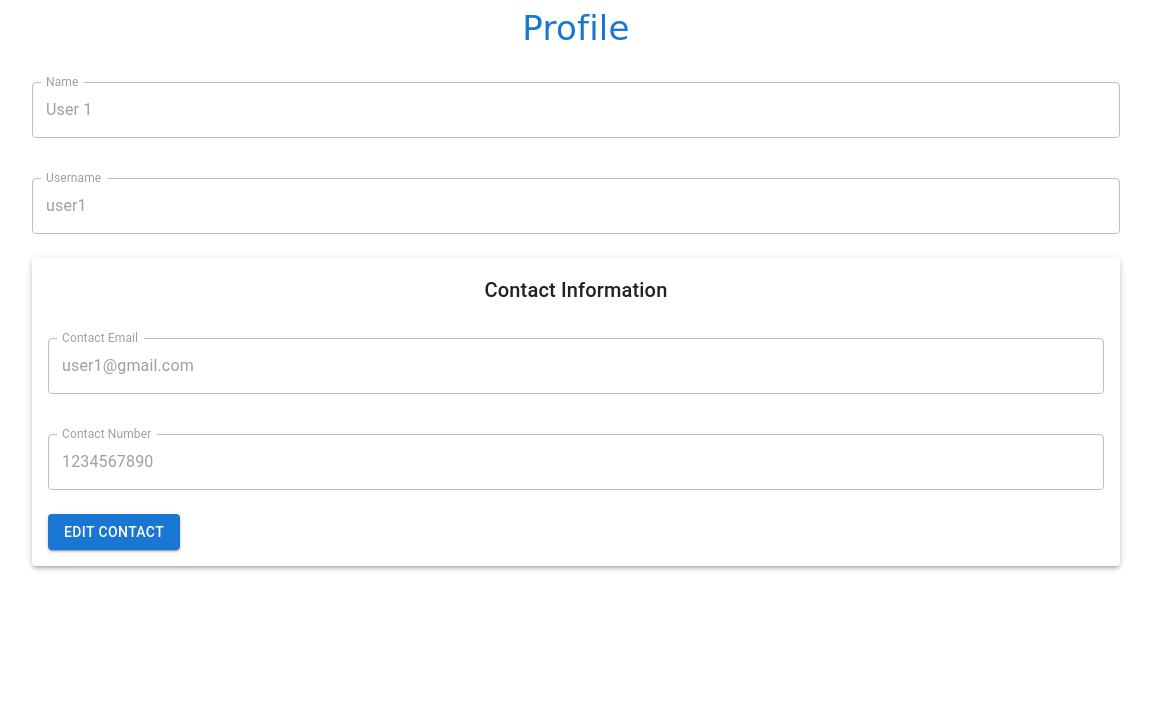
Test: Profile Component › shows error message when email and password is invalid
Expected: the field labelled "Contact Email" is disabled, [48,338,1104,394]
Expected: the field labelled "Contact Number" is disabled, [48,434,1104,490]
Click the button with test id "edit-button" at (114, 533), box [48,514,180,551]
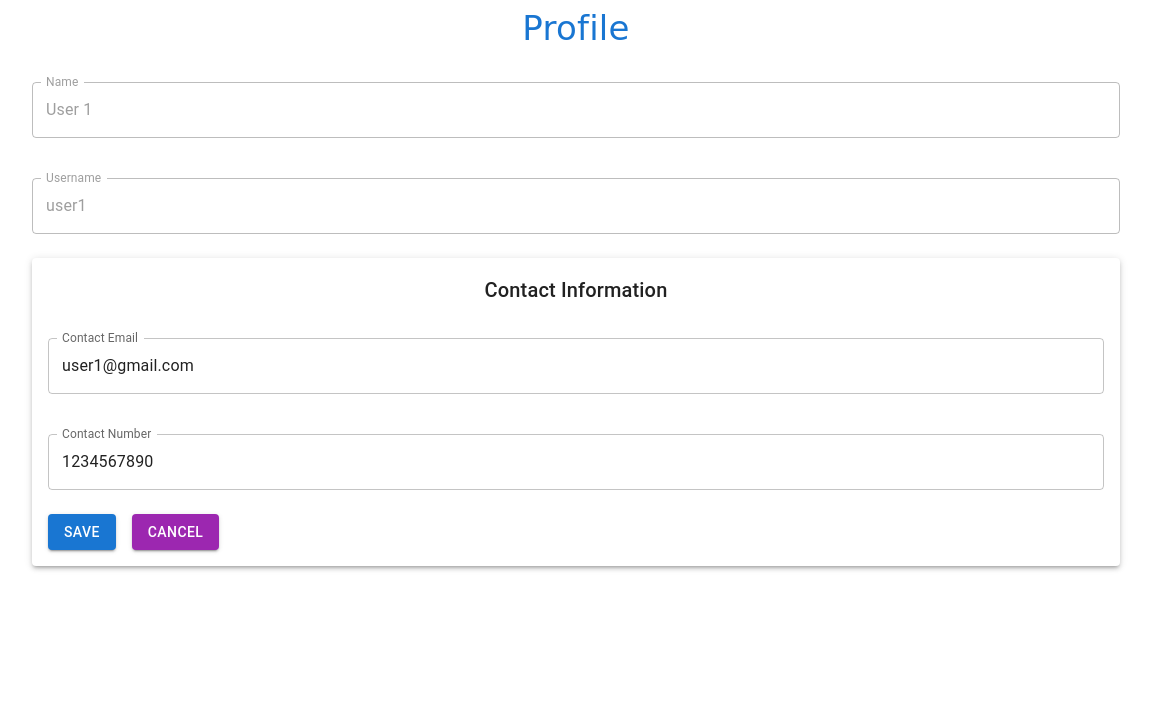
Press Selectall Backspace in the element with test id "contact-email", box [48,338,1104,394]
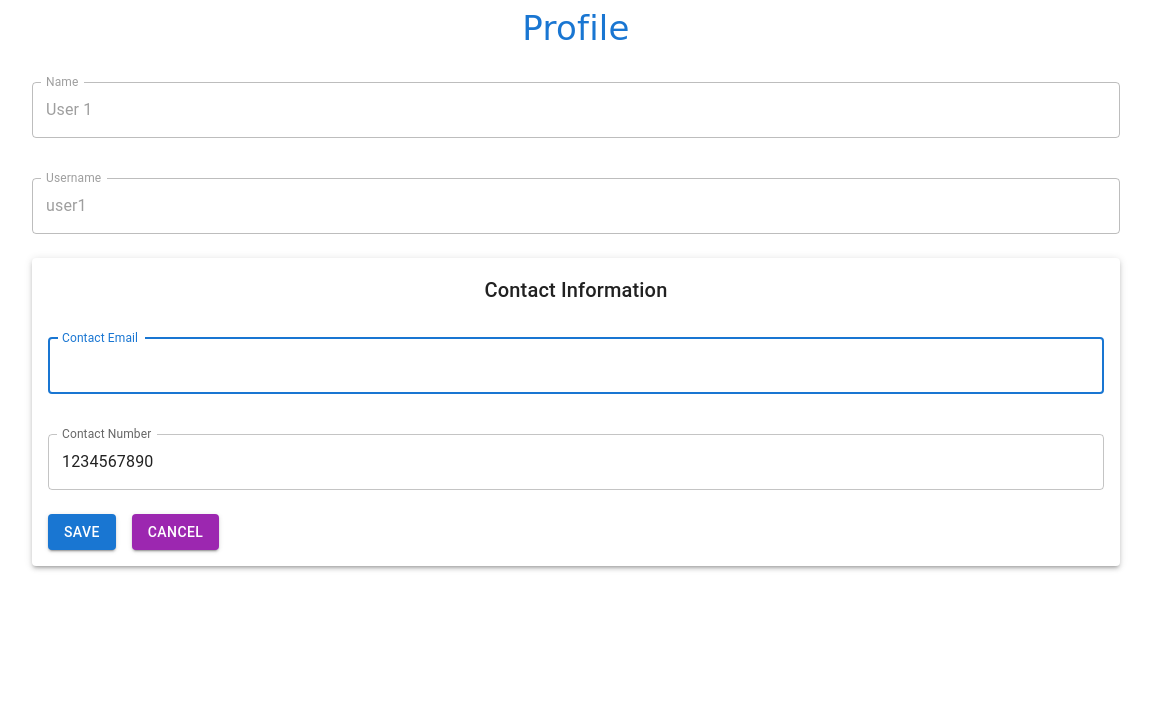
Press Selectall Backspace in the element with test id "contact-number", box [48,434,1104,490]
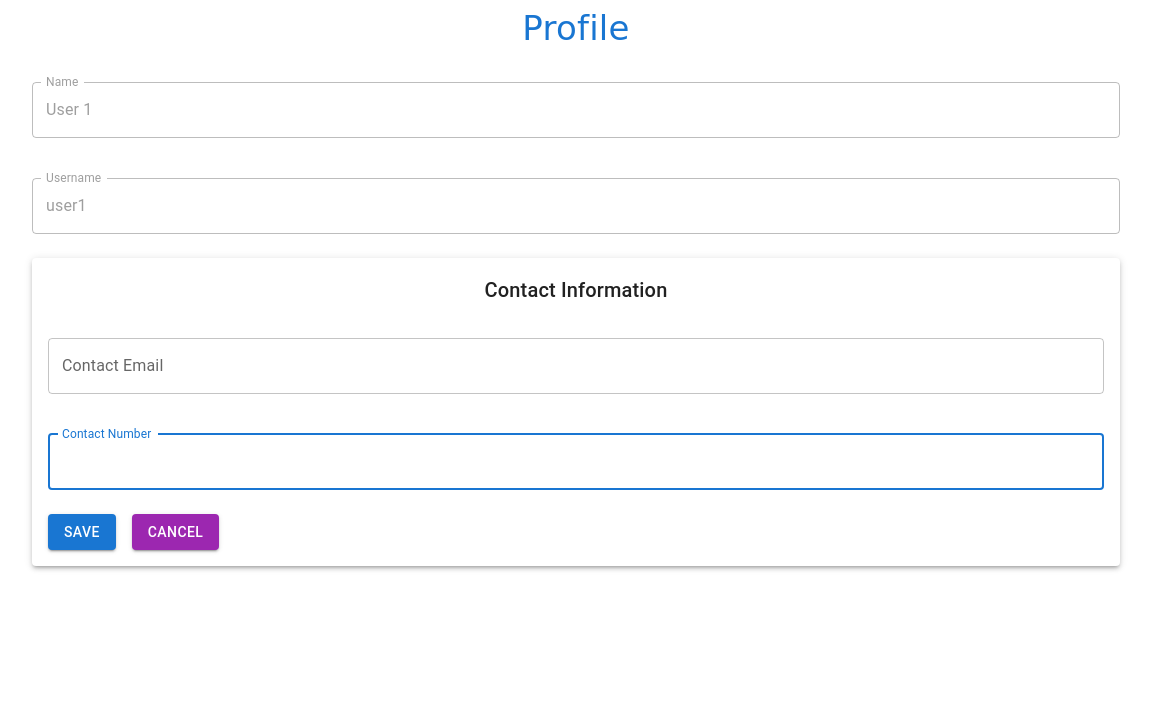
Click the button with test id "save-button" at (82, 533), box [48,514,116,551]
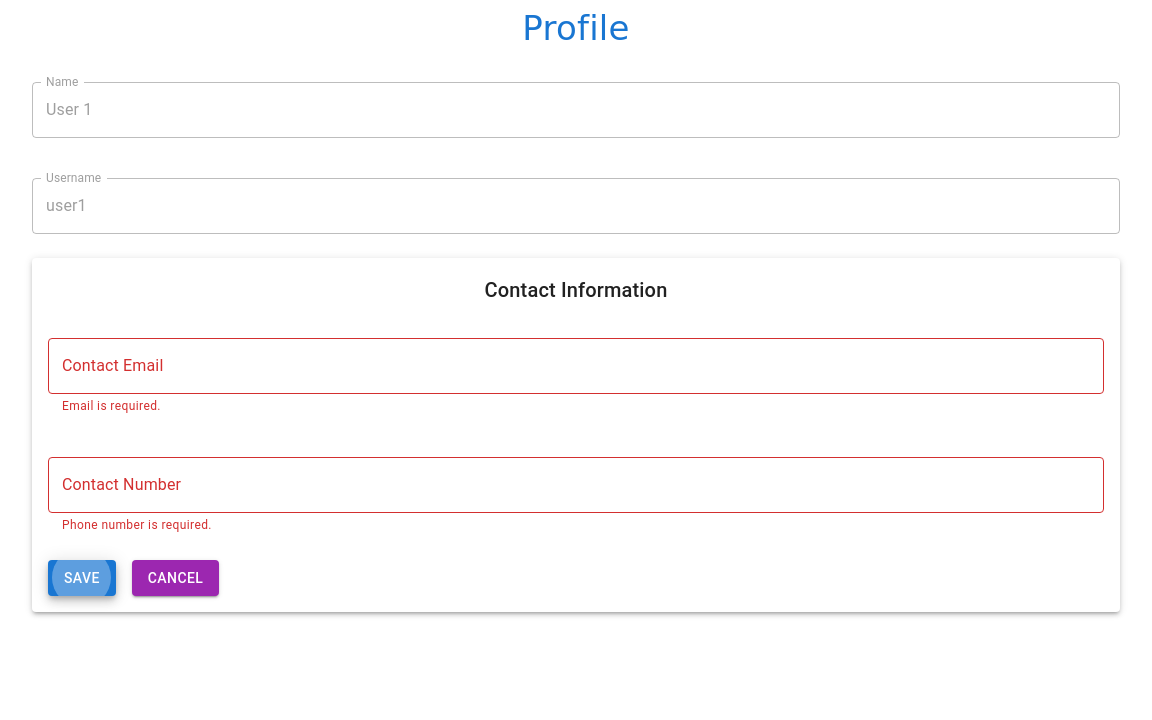
Expected: the text "Email is required." is shown, [62,399,161,413]
Expected: the text "Phone number is required." is shown, [62,518,212,532]
